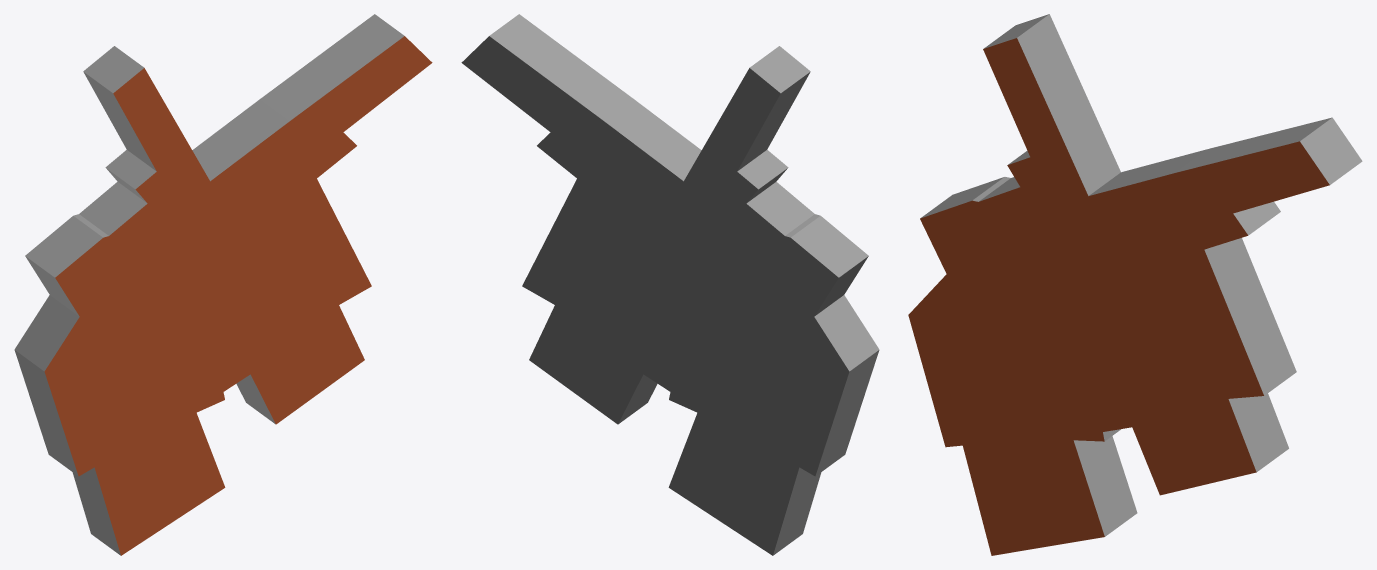
File: construction_5365_assumed_A_Casa_h6m.obj
The picture shows the model from 3 angles, left to right: view 1: azimuth 30°, elevation 25°; view 2: azimuth 150°, elevation 25°; view 3: azimuth 330°, elevation 25°; orthographic projection. The views are drawn at different scales.
Parts seen in each view (by area): view 1: construction_5365_assumed_A_Casa; view 2: construction_5365_assumed_A_Casa; view 3: construction_5365_assumed_A_Casa.
Part boxes in pixels (x1,y1,x2,y2): construction_5365_assumed_A_Casa: [14, 14, 432, 555]; construction_5365_assumed_A_Casa: [461, 14, 879, 555]; construction_5365_assumed_A_Casa: [908, 14, 1362, 555].
Bounding box in the file's own units: 44.75 × 53.17 × 6.
